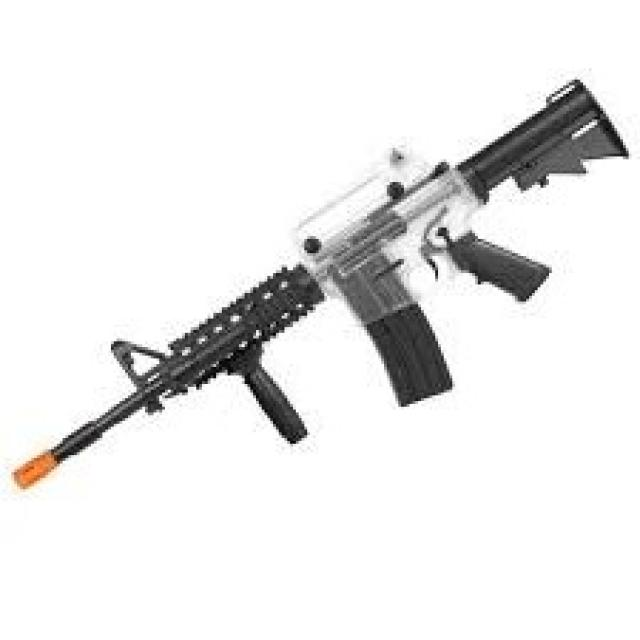rifle: (1, 72, 634, 527)
